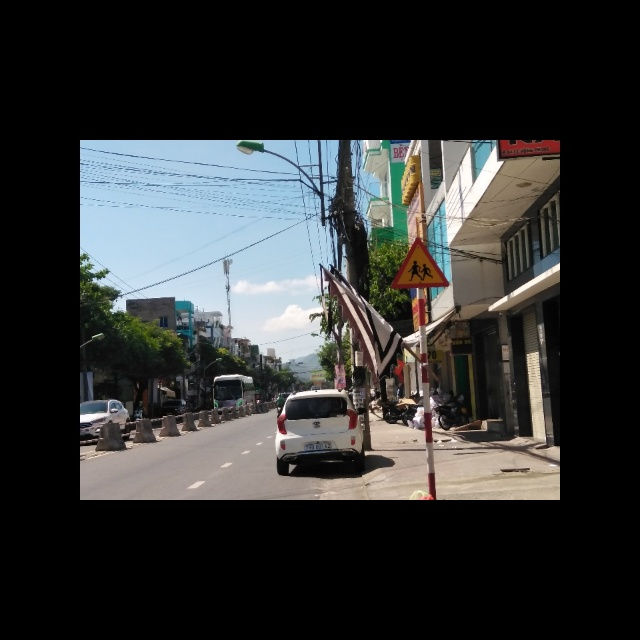Trẻ em ngang qua: (387, 236, 451, 288)
